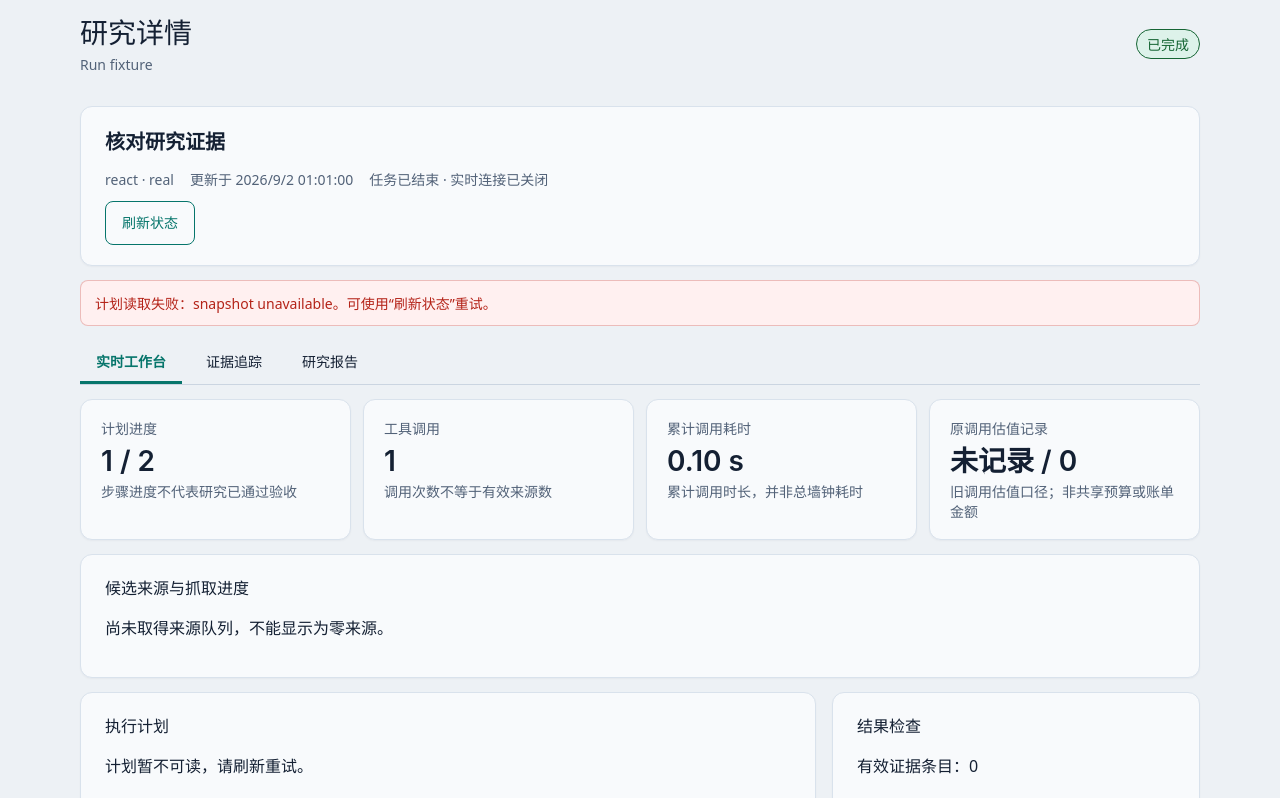
Test case: refreshes a failed plan read into the actual source snapshot
The width and height of the screenshot is (1280, 798).
Expected: the text "计划读取失败：snapshot unavailable。可使用“刷新状态”重试。" is shown, [80,280,1200,326]
Click the button "刷新状态". click: (150, 223)
box: [105,201,195,245]
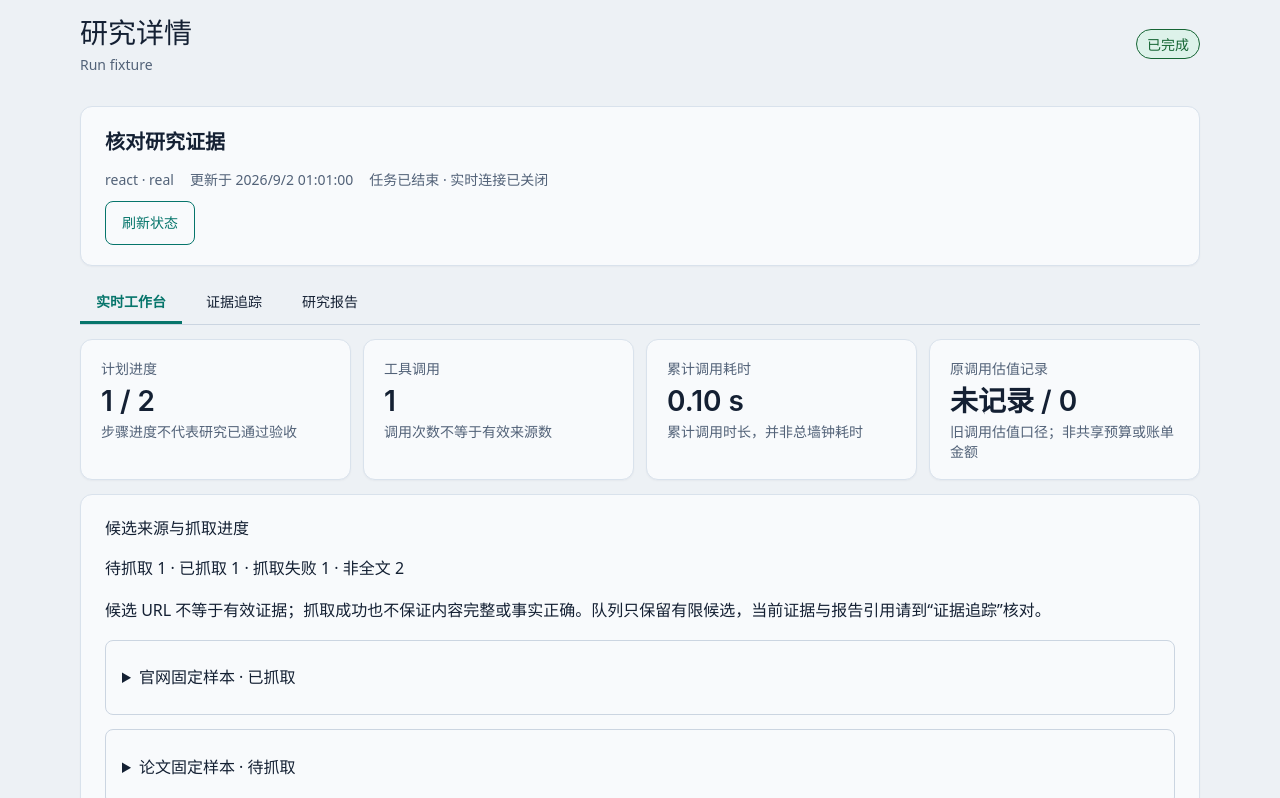
Expected: the text "尚未取得来源队列" is gone
